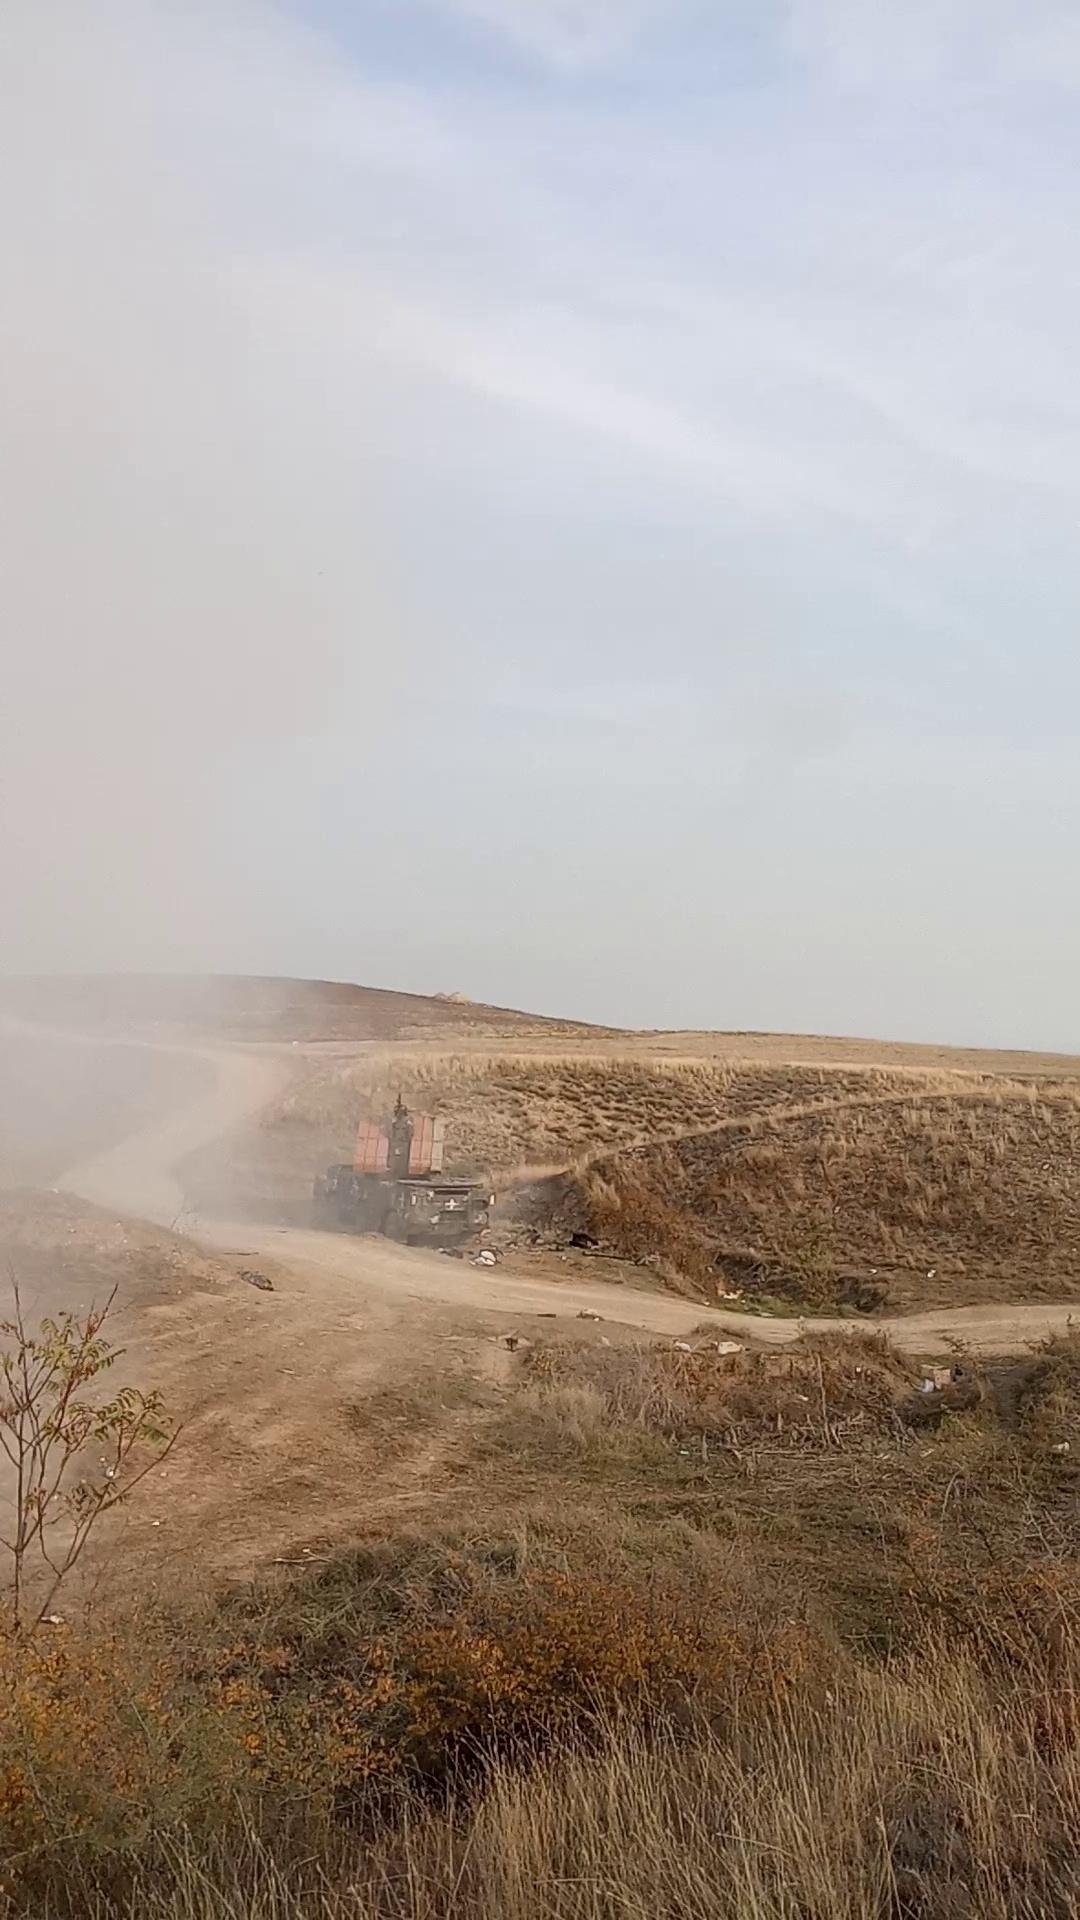MIL_SAM_TEL: (319, 1095, 495, 1255)
